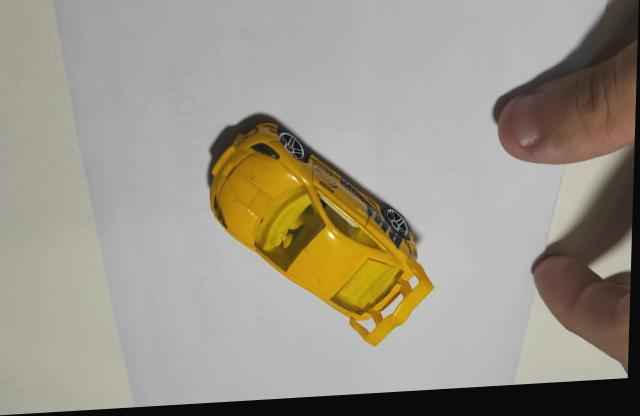07_RHLTURBO: (209, 117, 436, 350)
